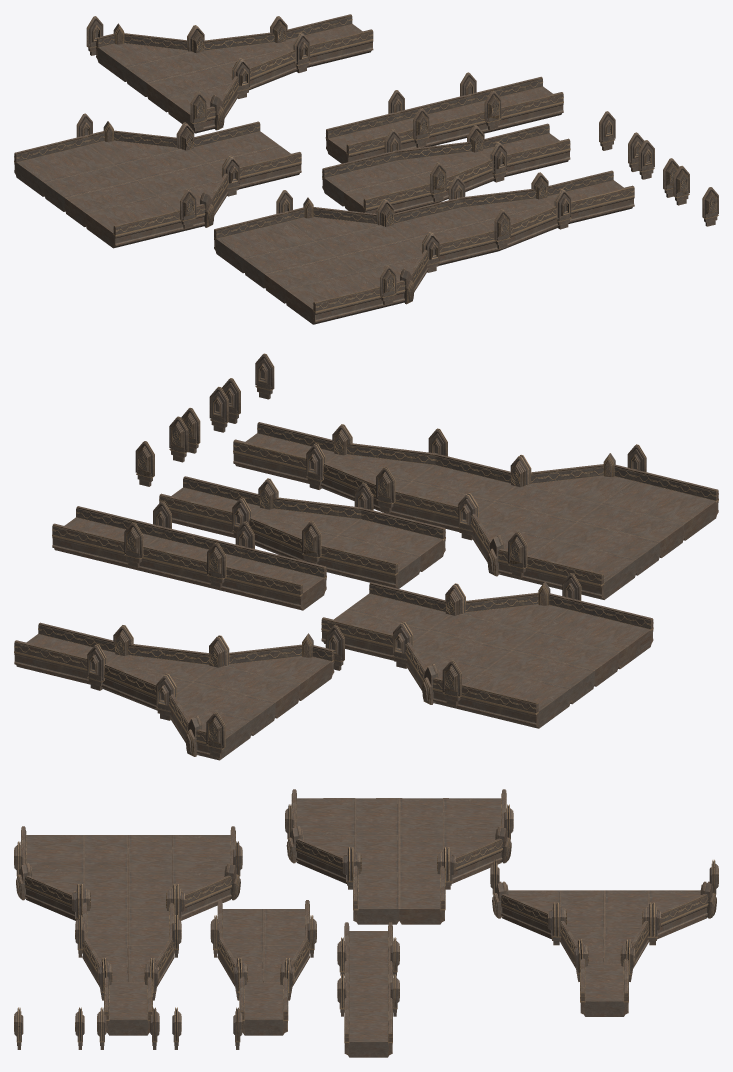
Rendered from Bridge_Segments_A1.fbx.
3 views of the same model, one above another, from view 1: azimuth 30°, elevation 25°; view 2: azimuth 150°, elevation 25°; view 3: azimuth 270°, elevation 25° (orthographic). The views are drawn at different scales.
Parts seen in each view (by area): view 1: Bridge_Segment_A2, Bridge_Segment_A3, Bridge_Segment_A1, Bridge_Segment_A4, Bridge_Piece_A4, Bridge_Segment_A2.001, Bridge_Piece_A5, Bridge_Segment_A3.001, Bridge_Piece_A5.001, Bridge_Segment_A1.001, Bridge_Piece_A2, Bridge_Segment_A4.001 (+12 smaller); view 2: Bridge_Segment_A2, Bridge_Segment_A3, Bridge_Segment_A1, Bridge_Segment_A4, Bridge_Segment_A2.001, Bridge_Piece_A4, Bridge_Piece_A5, Bridge_Segment_A3.001, Bridge_Piece_A5.001, Bridge_Piece_A2, Bridge_Segment_A1.001, Bridge_Segment_A4.001 (+11 smaller); view 3: Bridge_Segment_A2, Bridge_Segment_A3, Bridge_Segment_A1, Bridge_Piece_A4, Bridge_Segment_A2.001, Bridge_Segment_A4, Bridge_Segment_A3.001, Bridge_Piece_A5.001, Bridge_Piece_A5, Bridge_Segment_A1.001, Bridge_Piece_A2, Bridge_Piece_A4.001 (+9 smaller).
Part boxes in pixels (left/top/right/bottom): Bridge_Segment_A2: left=14, top=114, right=301, bottom=247; Bridge_Segment_A3: left=86, top=14, right=373, bottom=133; Bridge_Segment_A1: left=322, top=123, right=570, bottom=213; Bridge_Segment_A4: left=325, top=72, right=563, bottom=162; Bridge_Piece_A4: left=276, top=190, right=440, bottom=306; Bridge_Segment_A2.001: left=14, top=113, right=301, bottom=248; Bridge_Piece_A5: left=214, top=212, right=386, bottom=324; Bridge_Segment_A3.001: left=86, top=14, right=372, bottom=132; Bridge_Piece_A5.001: left=214, top=212, right=384, bottom=323; Bridge_Segment_A1.001: left=322, top=124, right=570, bottom=211; Bridge_Piece_A2: left=448, top=172, right=571, bottom=248; Bridge_Segment_A4.001: left=326, top=72, right=563, bottom=163; Bridge_Segment_A2: left=321, top=573, right=653, bottom=728; Bridge_Segment_A3: left=14, top=622, right=344, bottom=759; Bridge_Segment_A1: left=159, top=476, right=445, bottom=588; Bridge_Segment_A4: left=52, top=501, right=326, bottom=610; Bridge_Segment_A2.001: left=321, top=573, right=652, bottom=728; Bridge_Piece_A4: left=457, top=444, right=646, bottom=578; Bridge_Piece_A5: left=519, top=470, right=718, bottom=599; Bridge_Segment_A3.001: left=15, top=623, right=344, bottom=760; Bridge_Piece_A5.001: left=521, top=470, right=718, bottom=599; Bridge_Piece_A2: left=306, top=424, right=447, bottom=513; Bridge_Segment_A1.001: left=159, top=476, right=445, bottom=588; Bridge_Segment_A4.001: left=52, top=501, right=326, bottom=610; Bridge_Segment_A2: left=285, top=789, right=513, bottom=924; Bridge_Segment_A3: left=490, top=860, right=718, bottom=1016; Bridge_Segment_A1: left=210, top=900, right=316, bottom=1035; Bridge_Piece_A4: left=14, top=841, right=242, bottom=921; Bridge_Segment_A2.001: left=285, top=789, right=513, bottom=924; Bridge_Segment_A4: left=337, top=922, right=399, bottom=1057; Bridge_Segment_A3.001: left=491, top=859, right=718, bottom=1016; Bridge_Piece_A5.001: left=21, top=826, right=235, bottom=871; Bridge_Piece_A5: left=21, top=826, right=235, bottom=871; Bridge_Segment_A1.001: left=211, top=900, right=316, bottom=1035; Bridge_Piece_A2: left=75, top=915, right=181, bottom=1000; Bridge_Piece_A4.001: left=14, top=841, right=242, bottom=920.
Size of the model in its own units: 13220 by 1163 by 16138.
